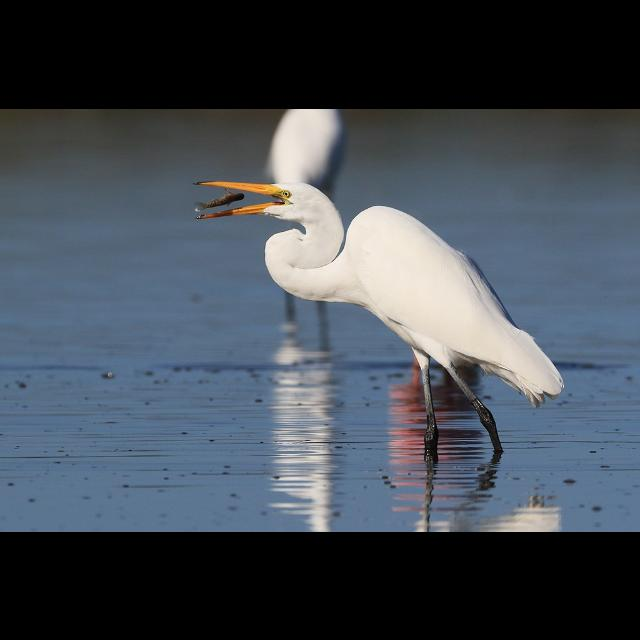egret: (187, 144, 573, 482)
